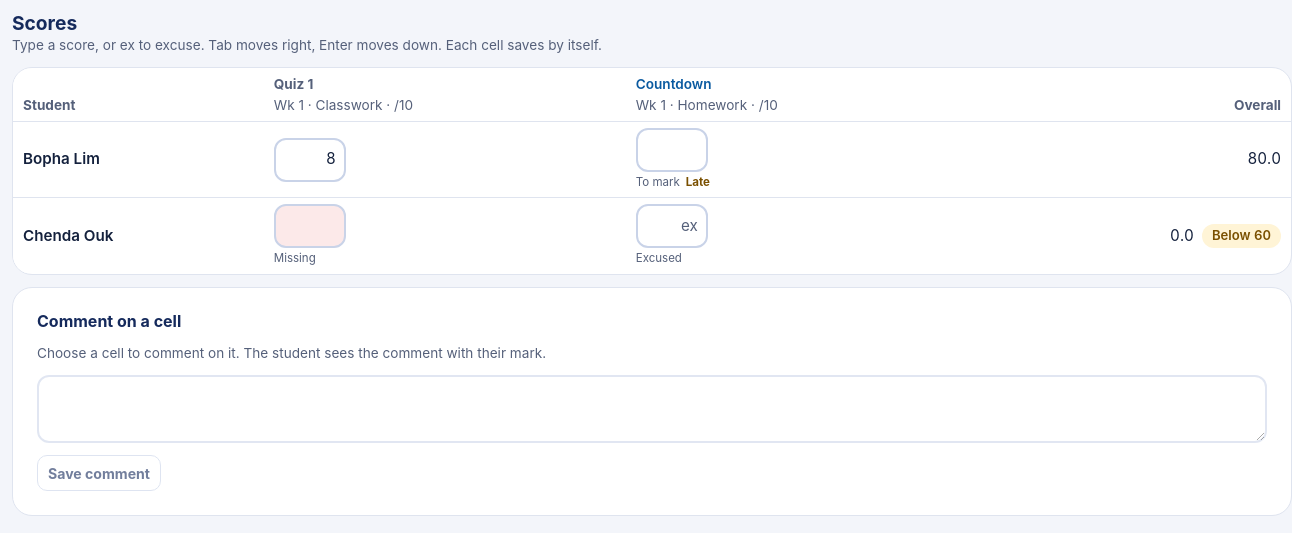
Test case: GradebookGrid › saves when you leave a changed cell, and sends the version it showed (BR-04)
The image size is (1292, 533).
In the field named "Bopha Lim, Countdown (out of 10)": (672, 150) x1=636 y1=128 x2=708 y2=172, type "9"
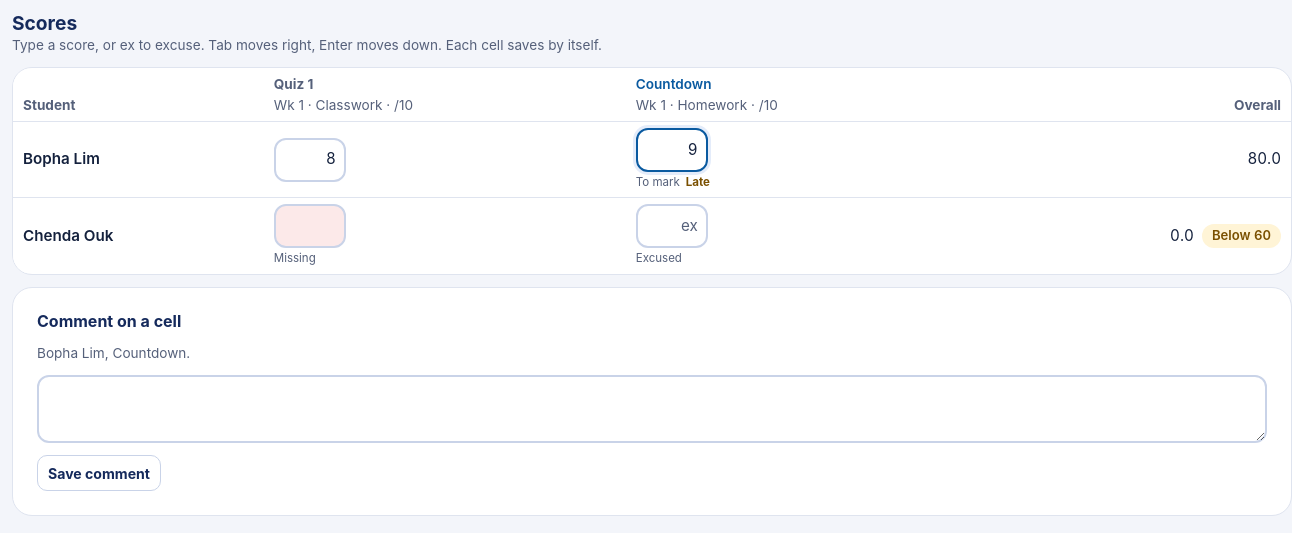
Leave the field named "Bopha Lim, Countdown (out of 10)", box x1=636 y1=128 x2=708 y2=172
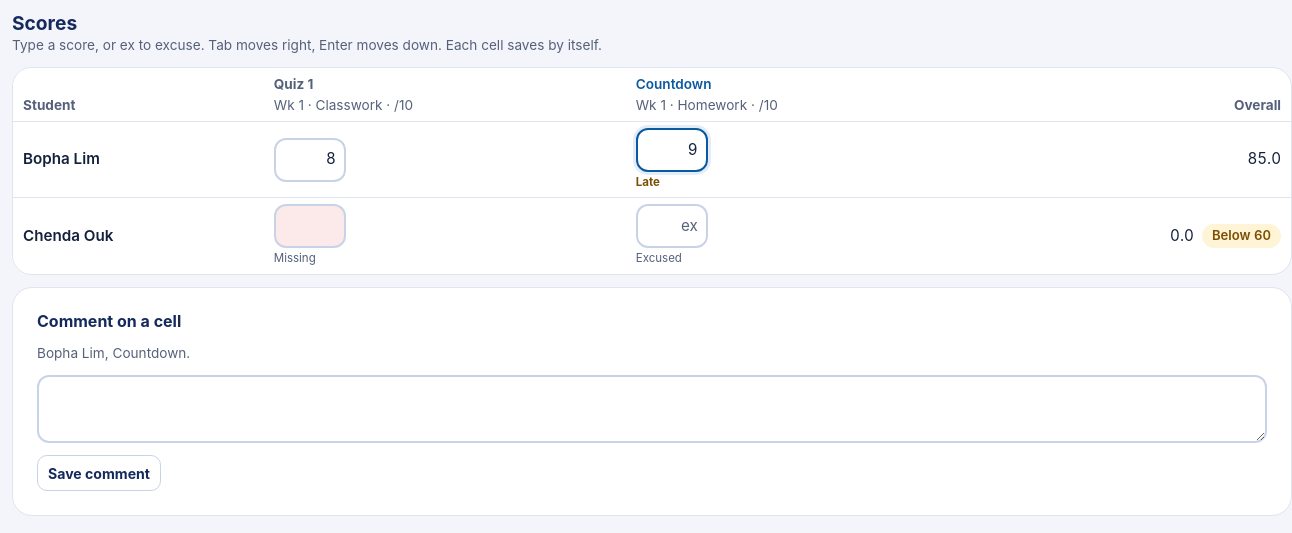
Expected: the text "To mark" is gone
